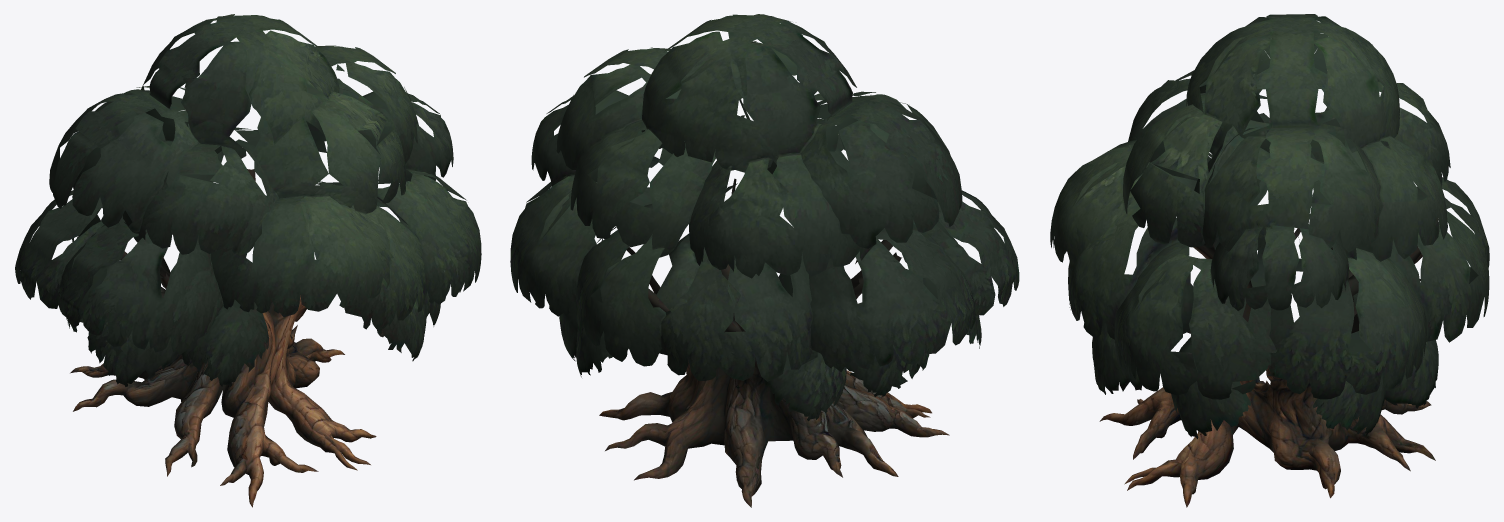
File: act1-a16-1-yew.glb
3 renders of one model, left to right at view 1: azimuth 30°, elevation 25°; view 2: azimuth 150°, elevation 25°; view 3: azimuth 270°, elevation 25°, orthographic. The views are drawn at different scales.
Visible parts, largest first — view 1: act1-a16-1-yew; view 2: act1-a16-1-yew; view 3: act1-a16-1-yew.
Part boxes in pixels (x1,y1,x2,y2): act1-a16-1-yew: (15, 14, 481, 507); act1-a16-1-yew: (510, 14, 1019, 507); act1-a16-1-yew: (1050, 14, 1489, 507).
Size of the model in its own units: 9.44 by 9 by 8.23.
1 material, 1 textured.
